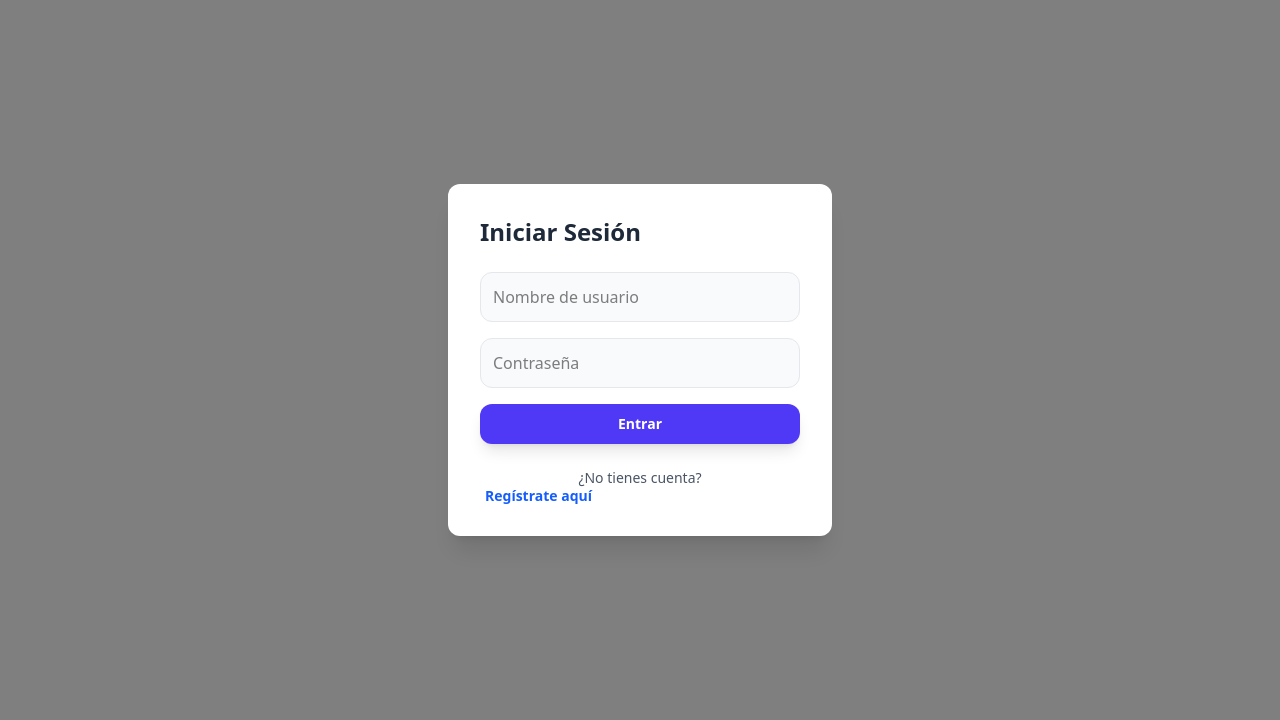
AuthModal › debe mostrar error de conexión cuando el backend no responde
Type "testuser" into the field with placeholder "Nombre de usuario".
click(640, 297); type("testuser")  # box [480, 272, 800, 322]
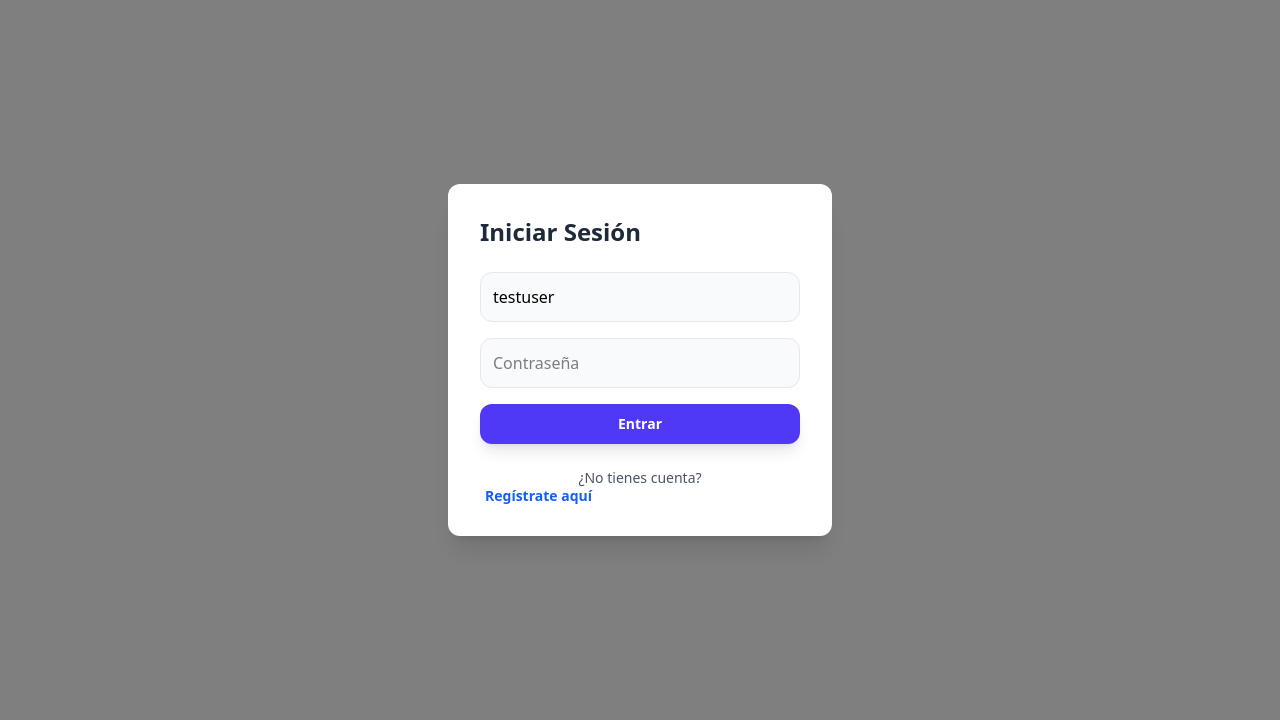
Type "123456" into the password field with placeholder "Contraseña".
click(640, 363); type("123456")  # box [480, 338, 800, 388]
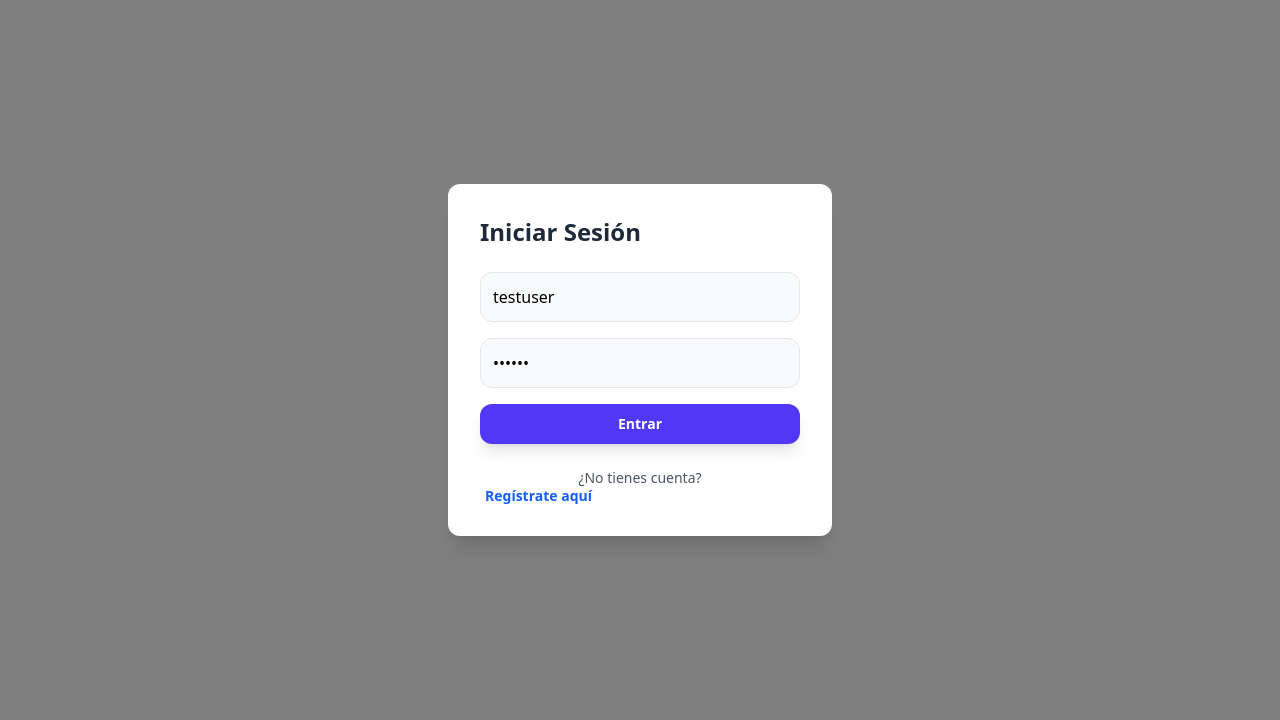
Click the button "Entrar".
click(640, 424)  # box [480, 404, 800, 444]
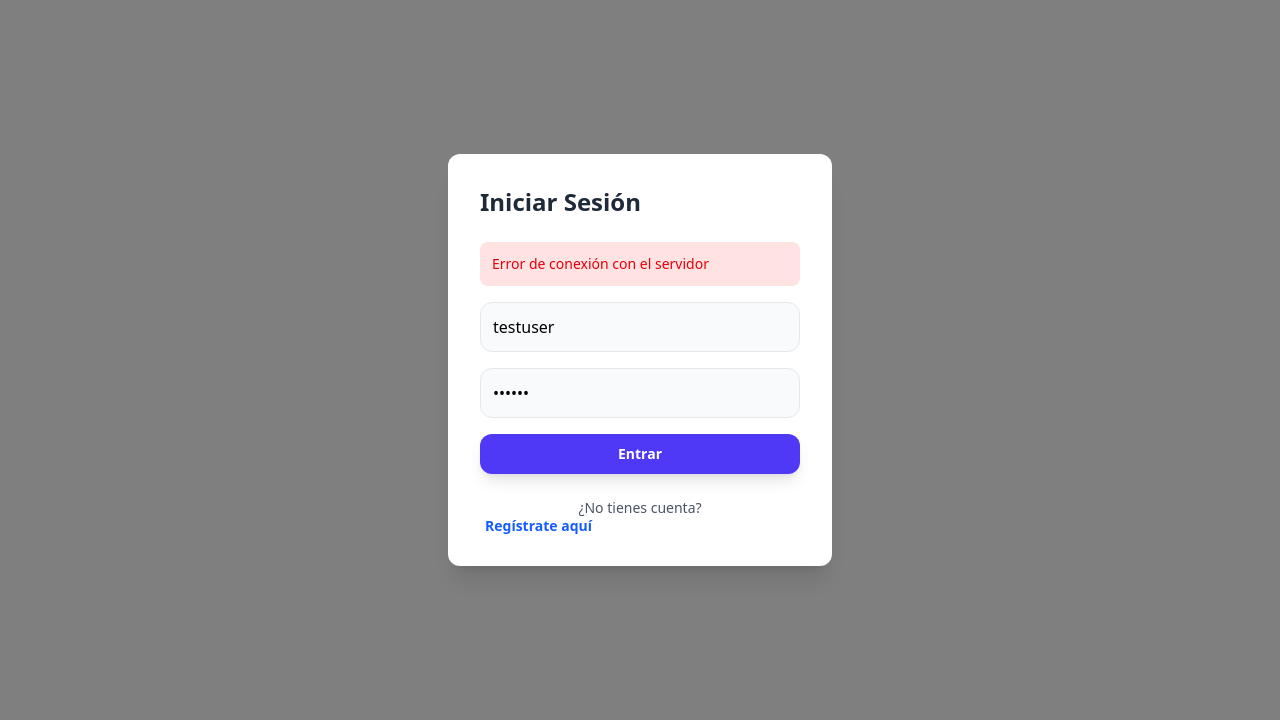
Check: the button "Entrar" is enabled, box [480, 434, 800, 474]
Check: the text "Error de conexión con el servidor" is shown, box [480, 242, 800, 286]
